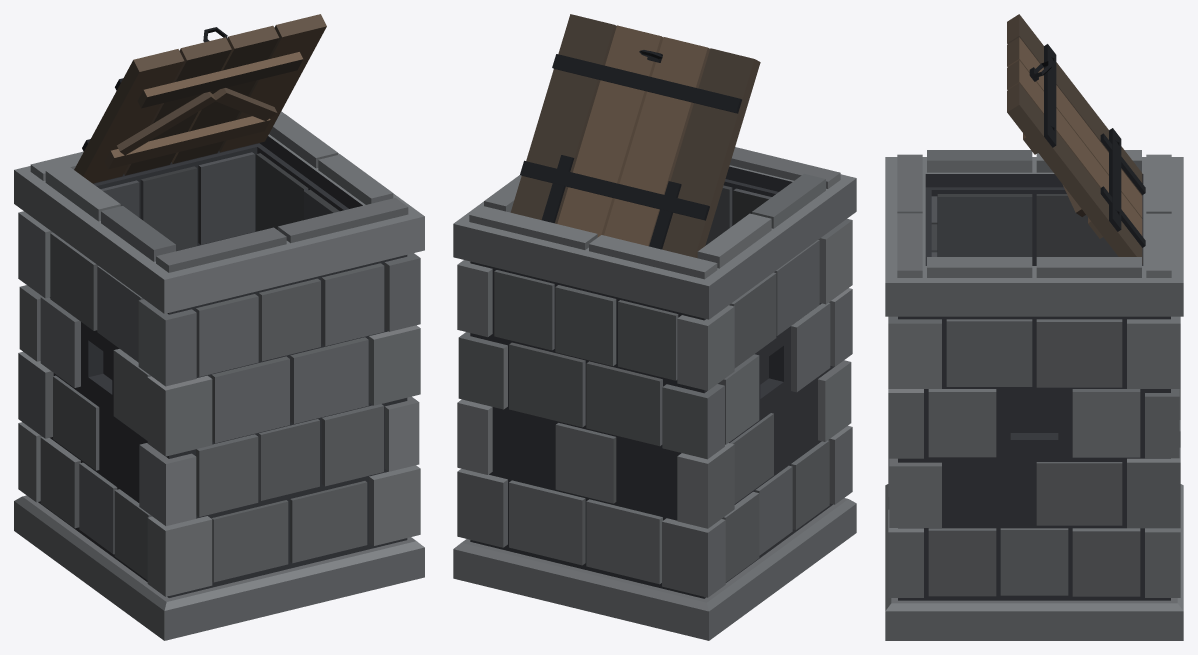
File: stage4_trapdoor_pit.glb
3 views of the same model, side by side, from view 1: azimuth 30°, elevation 25°; view 2: azimuth 150°, elevation 25°; view 3: azimuth 270°, elevation 25° (orthographic).
Parts seen in each view (by area): view 1: pit, lid-leaf; view 2: pit, lid-leaf; view 3: pit, lid-leaf.
Part boxes in pixels (x1,y1,x2,y2): pit: (14,111,424,640); lid-leaf: (74,14,326,183); pit: (453,147,856,640); lid-leaf: (510,14,760,258); pit: (885,150,1183,640); lid-leaf: (1007,14,1145,263).
Size of the model in its own units: 2 by 3.84 by 2.
